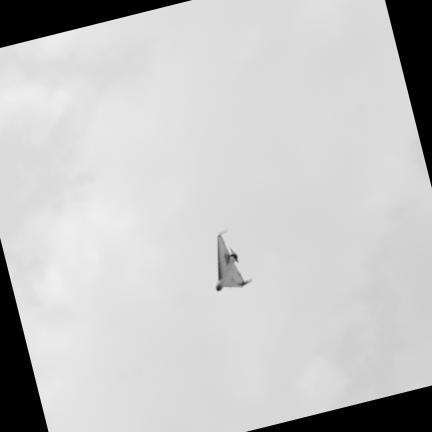Shahed: (215, 230, 251, 290)
